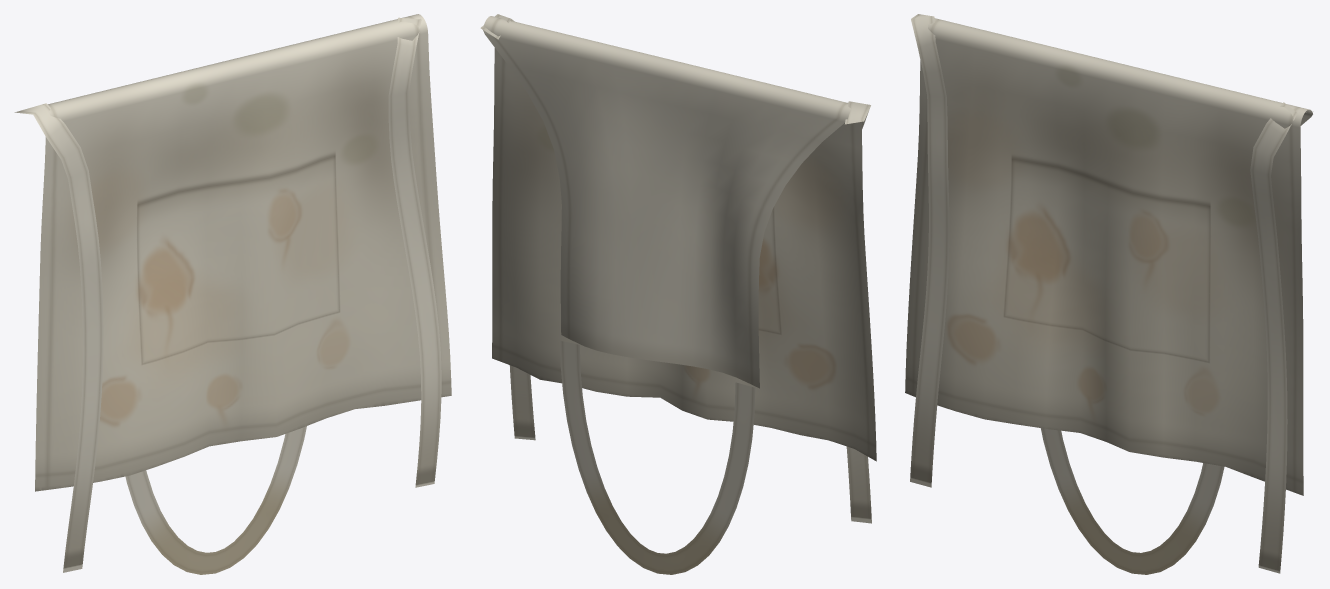
Rendered from apron_hung.glb.
3 renders of one model, left to right at view 1: azimuth 30°, elevation 25°; view 2: azimuth 150°, elevation 25°; view 3: azimuth 330°, elevation 25°, orthographic. The views are drawn at different scales.
Parts seen in each view (by area): view 1: ApronHung; view 2: ApronHung; view 3: ApronHung.
Part boxes in pixels (left/top/right/bottom): ApronHung: left=14, top=14, right=451, bottom=574; ApronHung: left=480, top=14, right=876, bottom=574; ApronHung: left=905, top=14, right=1313, bottom=574.
Size of the model in its own units: 0.499 by 0.6081 by 0.0837.
Materials: 1 (1 with a texture image).
